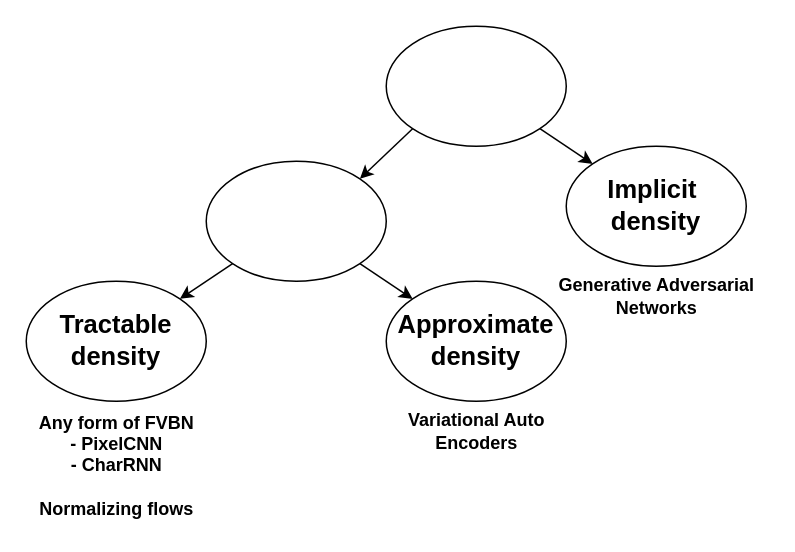
Image size: 795x552. Some labels were removed from this diagram. The centre of each missing label's shape, as x and y in pixels:
Deep Generative Models: pixel 475 85
Explicit density: pixel 295 220
